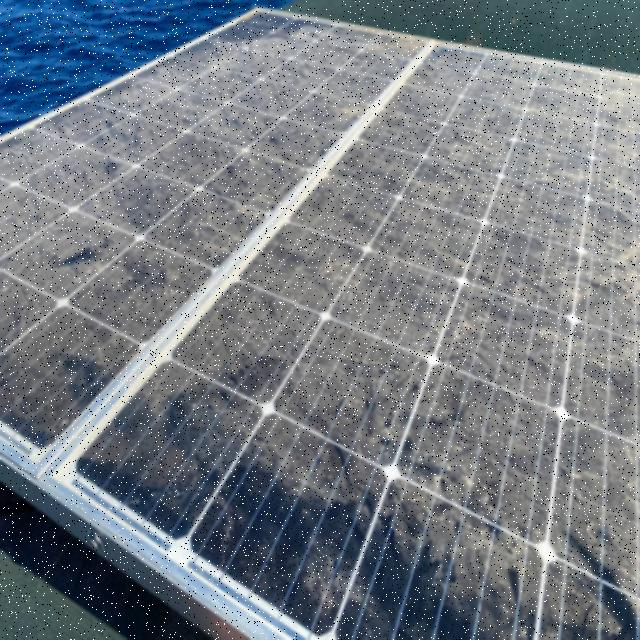dusty: (82, 47, 640, 640), (0, 13, 426, 446)
